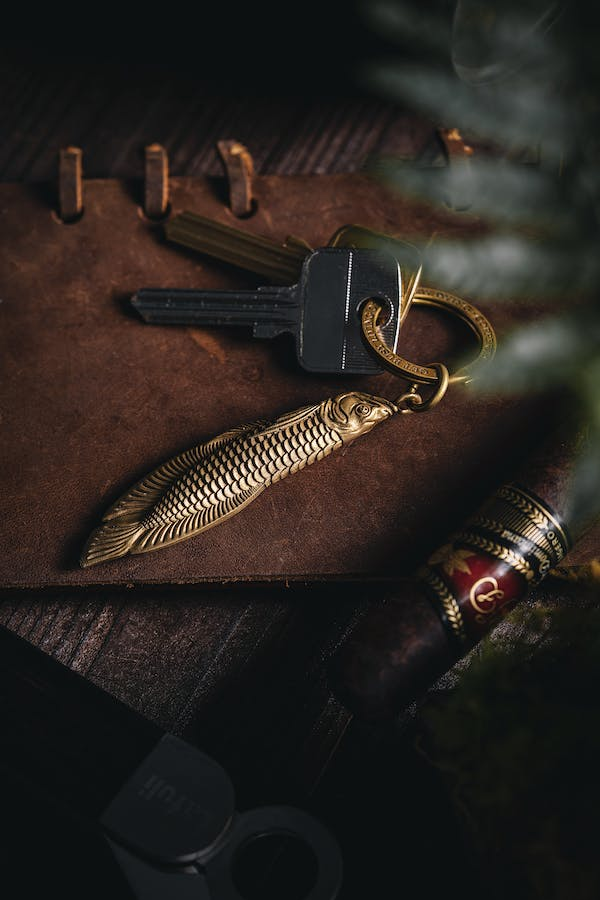key: (161, 207, 425, 352), (128, 249, 403, 381)
